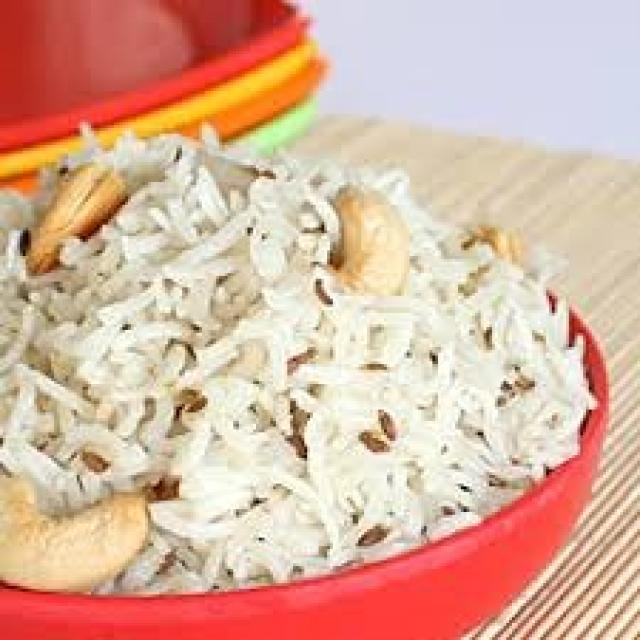nei satham: (0, 118, 539, 615)
